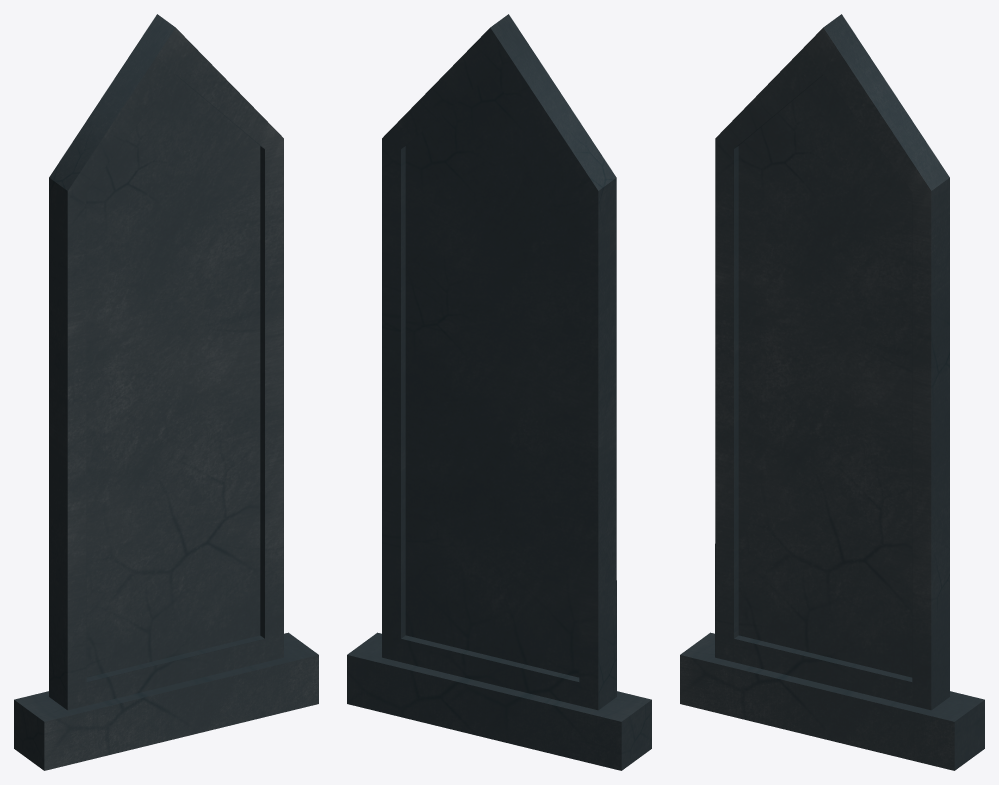
The model's file is Gravestone26_Model.fbx.
3 renders of one model, left to right at view 1: azimuth 30°, elevation 25°; view 2: azimuth 150°, elevation 25°; view 3: azimuth 330°, elevation 25°, orthographic.
Visible parts, largest first — view 1: Gravestone26_Model; view 2: Gravestone26_Model; view 3: Gravestone26_Model.
Boxes of the visible parts, left/top/right/bottom form: Gravestone26_Model: left=14, top=14, right=318, bottom=770; Gravestone26_Model: left=347, top=14, right=651, bottom=770; Gravestone26_Model: left=680, top=14, right=984, bottom=770.
Size of the model in its own units: 112 by 274 by 21.4.
